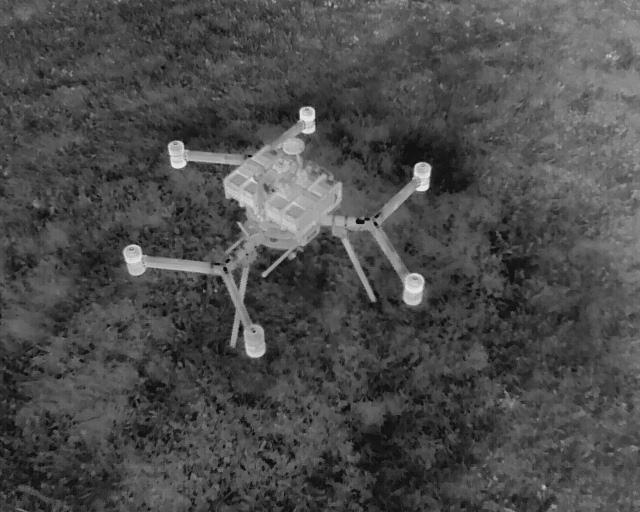drone: (120, 84, 443, 387)
